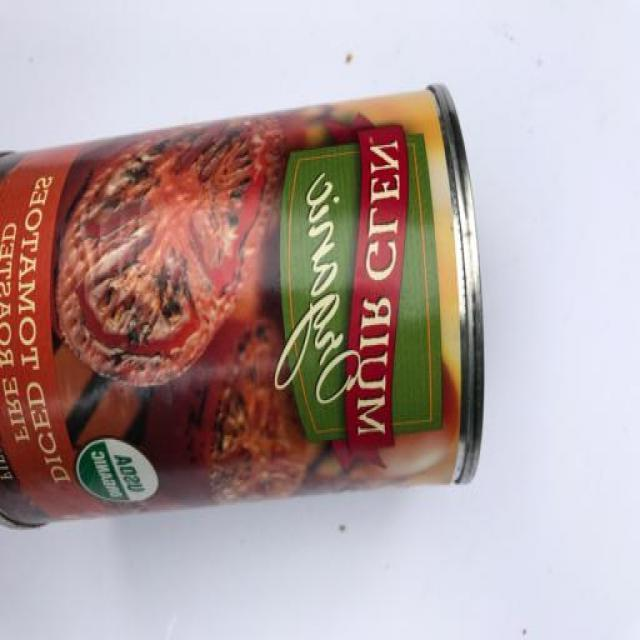metal: (1, 76, 487, 540)
